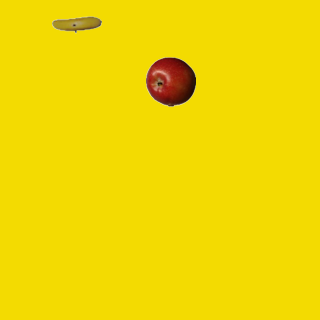Apple Braeburn: (145, 56, 195, 106)
Banana: (51, 0, 101, 49)
